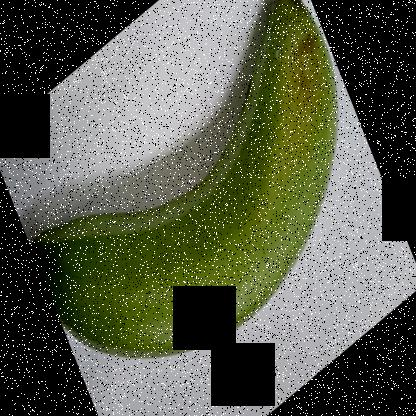freshunripe: (18, 0, 349, 363)
